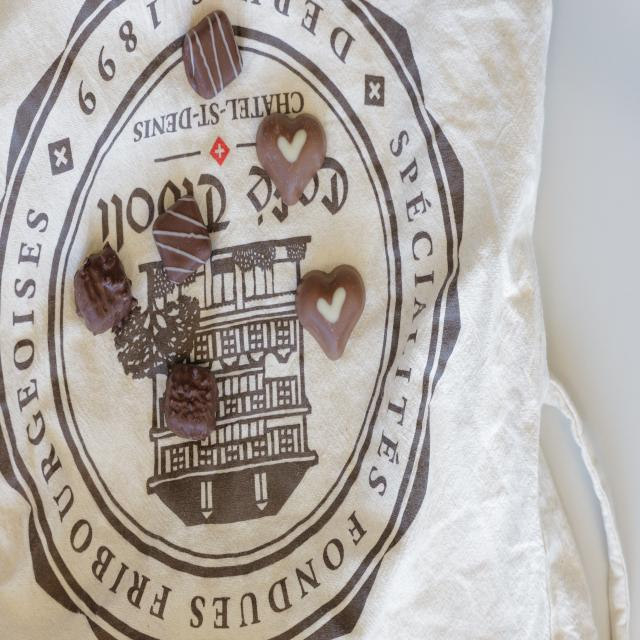Passion_au_lait: (256, 112, 327, 206), (296, 266, 366, 360)
Stracciatella: (183, 10, 242, 99), (154, 196, 212, 285)
Tentation_noir: (73, 243, 137, 338), (166, 362, 217, 440)
